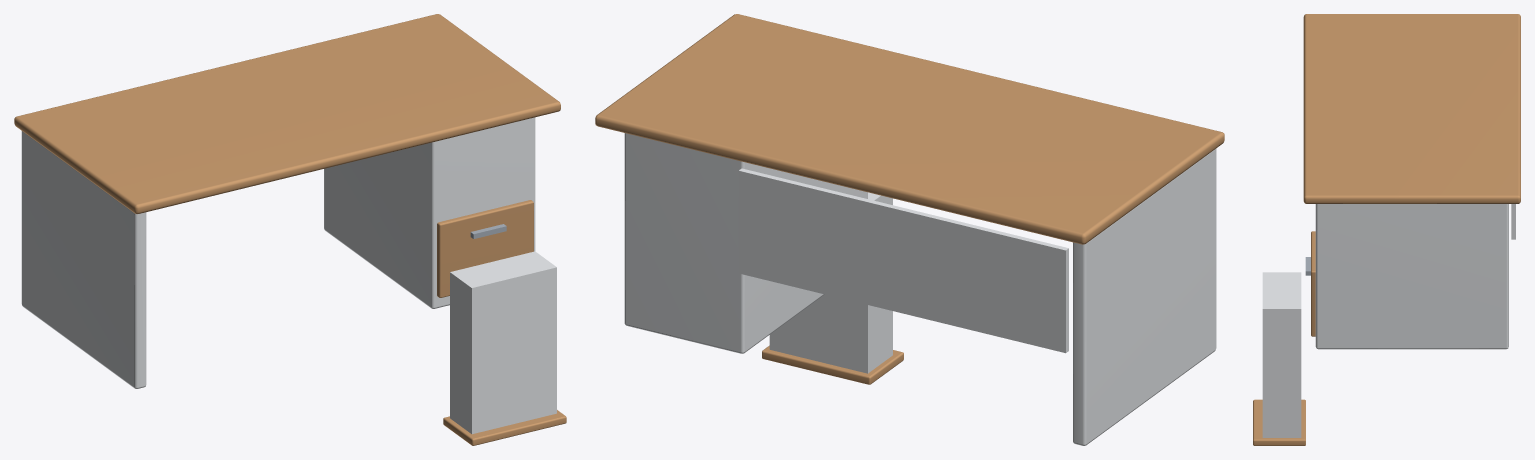
File: Desk.fbx
The picture shows the model from 3 angles, left to right: view 1: azimuth 30°, elevation 25°; view 2: azimuth 150°, elevation 25°; view 3: azimuth 270°, elevation 25°; orthographic projection. The views are drawn at different scales.
Visible parts, largest first — view 1: Top, LegPanel, Pedestal, DrawerBody, LowerDrawer, DrawerFront; view 2: Top, Modesty, LegPanel, Pedestal, DrawerBody, DrawerFront; view 3: Top, Pedestal, DrawerBody, DrawerFront, LowerDrawer.
Boxes of the visible parts, x1,y1,x2,y2 form: Top: (14,14,560,214); LegPanel: (21,131,146,388); Pedestal: (324,117,535,308); DrawerBody: (450,251,556,434); LowerDrawer: (437,200,533,297); DrawerFront: (443,410,566,445); Top: (595,14,1224,244); Modesty: (738,168,1068,353); LegPanel: (1073,149,1216,445); Pedestal: (624,133,867,353); DrawerBody: (769,192,892,373); DrawerFront: (762,345,903,384); Top: (1303,14,1520,203); Pedestal: (1315,204,1508,349); DrawerBody: (1262,272,1301,437); DrawerFront: (1253,399,1305,445); LowerDrawer: (1311,231,1315,336).
Size of the model in its own units: 1.8 by 1.21 by 1.11.
